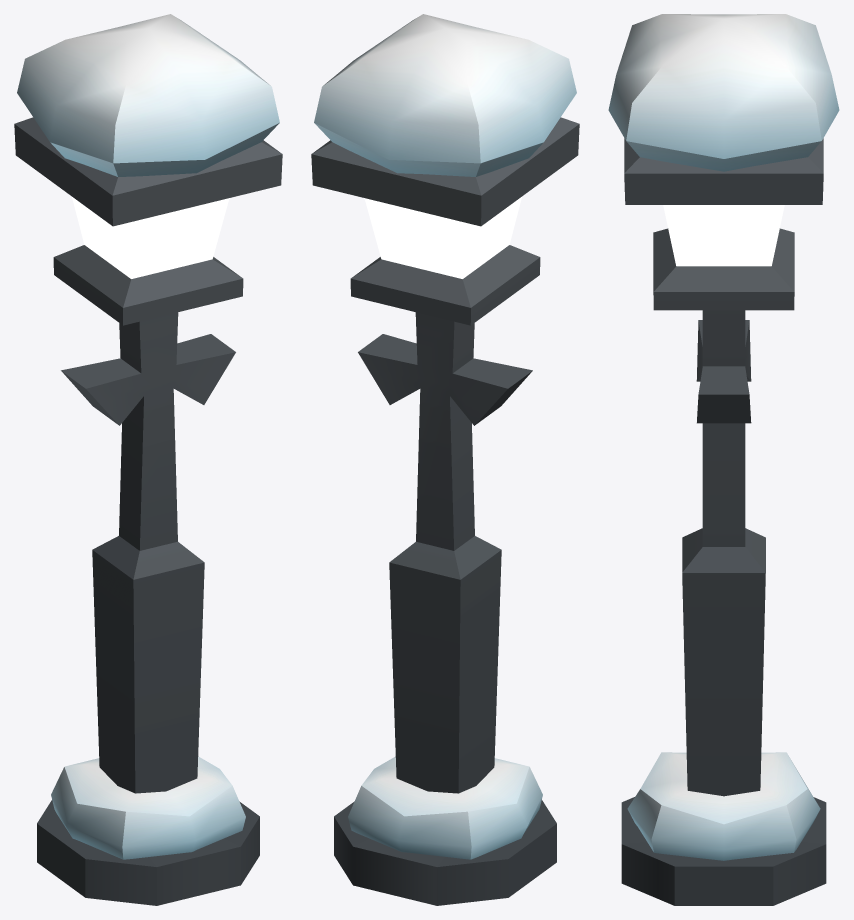
File: lantern_mini.gltf
3 renders of one model, left to right at view 1: azimuth 30°, elevation 25°; view 2: azimuth 150°, elevation 25°; view 3: azimuth 270°, elevation 25°, orthographic.
Parts seen in each view (by area): view 1: lantern_mini; view 2: lantern_mini; view 3: lantern_mini.
Boxes of the visible parts, <box> form: lantern_mini: <box>14,14,282,905</box>; lantern_mini: <box>311,14,579,905</box>; lantern_mini: <box>608,14,839,905</box>.
Bounding box in the file's own units: 0.1593 × 0.6418 × 0.1593.
Materials: 2 (2 with a texture image).
